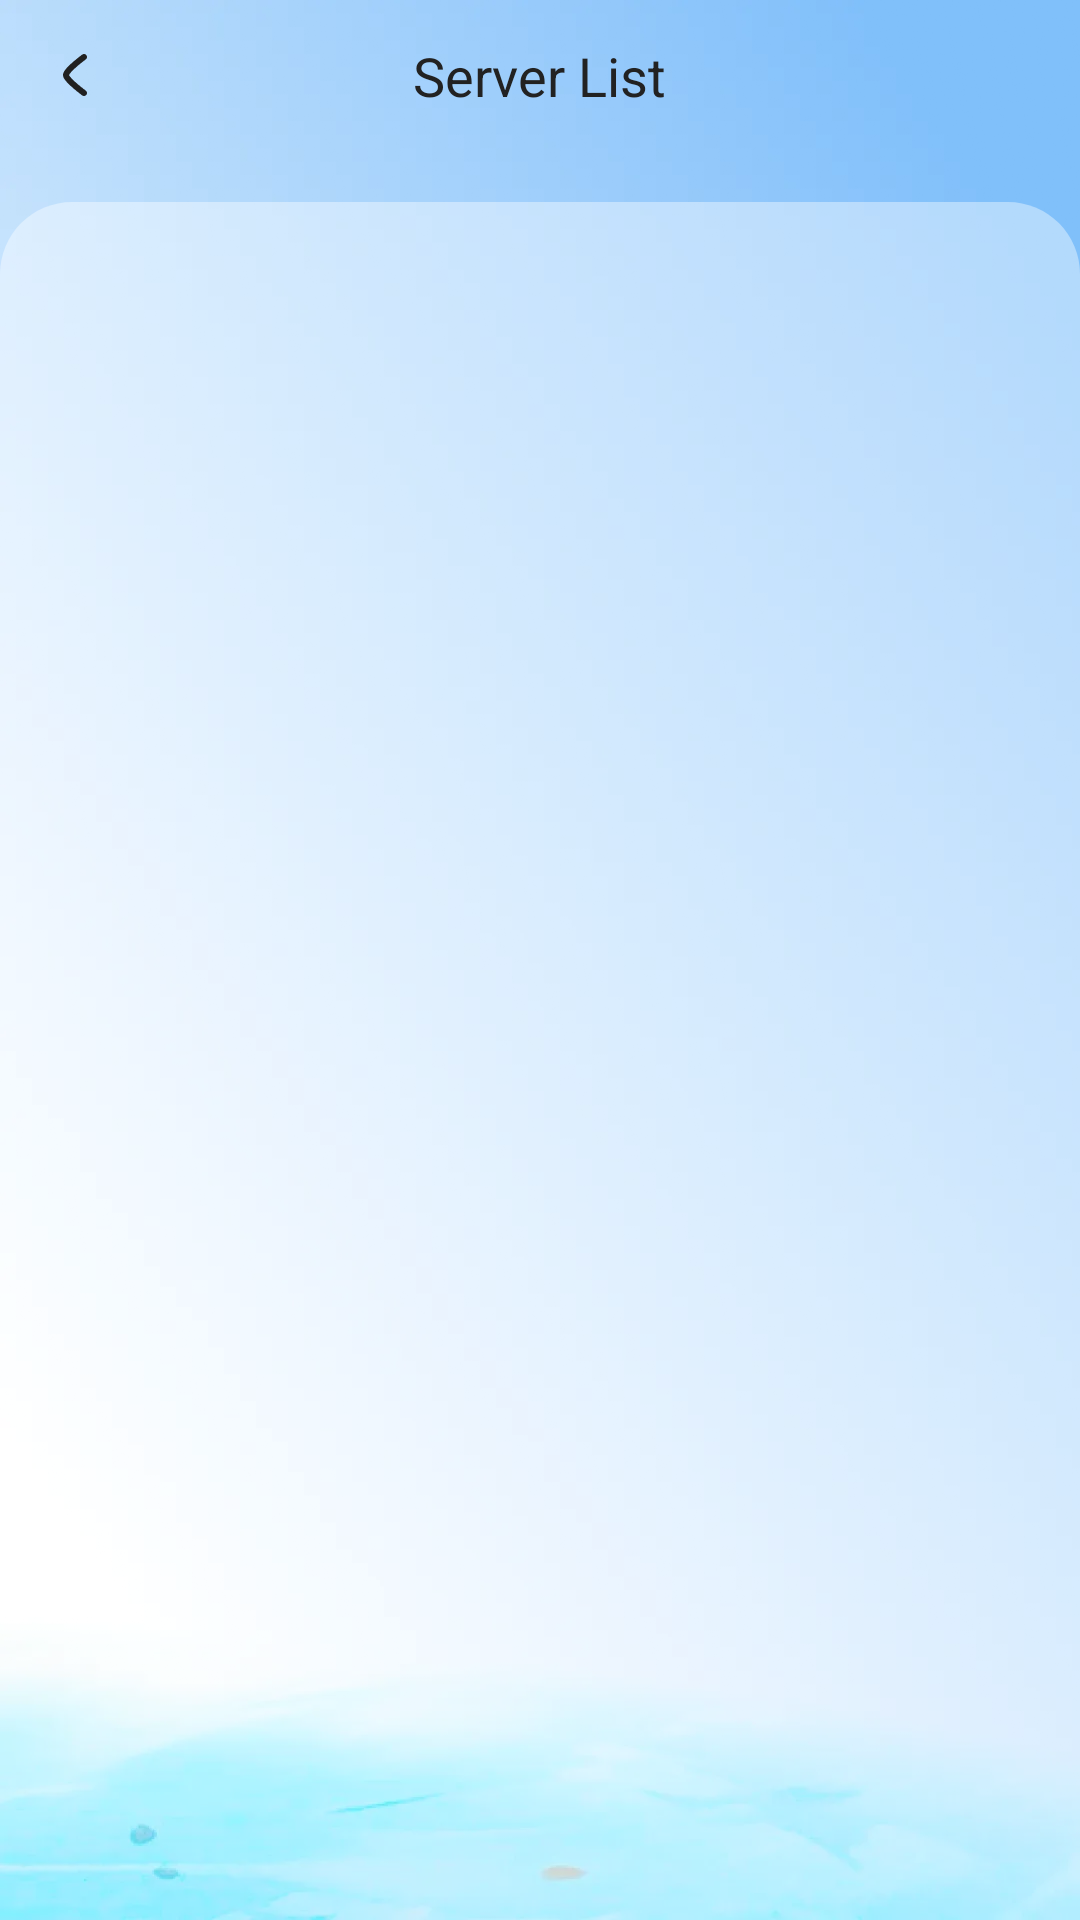

Where icons sit on this 1080×1920 app screen, as (x1=x1, y1=y1, x2=x2, y2=y2):
back: (x1=63, y1=54, x2=87, y2=96)
